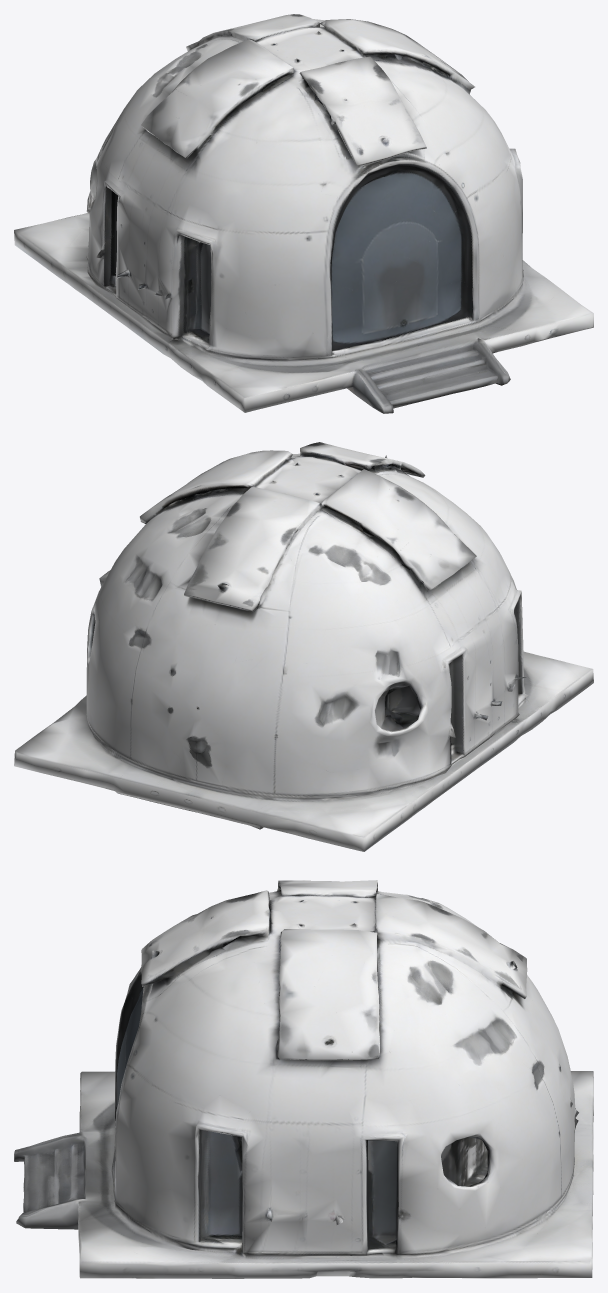
The model's file is Meshy_AI_A_lunar_temporary_bar_0417224422_texture.glb.
The picture shows the model from 3 angles, top to bottom: view 1: azimuth 30°, elevation 25°; view 2: azimuth 150°, elevation 25°; view 3: azimuth 270°, elevation 25°; orthographic projection. The views are drawn at different scales.
Size of the model in its own units: 1.65 by 1.08 by 2.
1 material, 1 textured.
